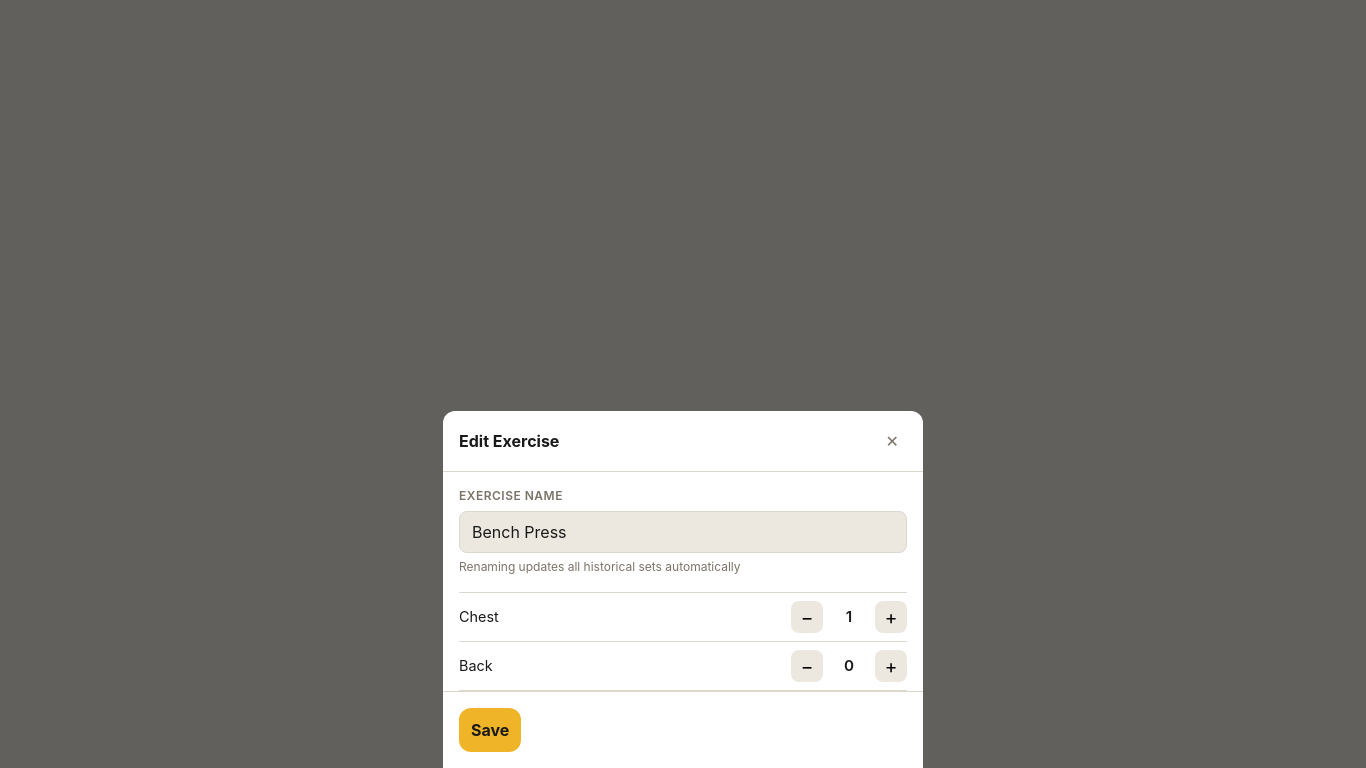
Test case: ExerciseEditSheet › decrements muscle value when − stepper is clicked
The width and height of the screenshot is (1366, 768).
Click the button "−" in the row of "Chest" at coordinates (807, 617), box [791,601,823,633]
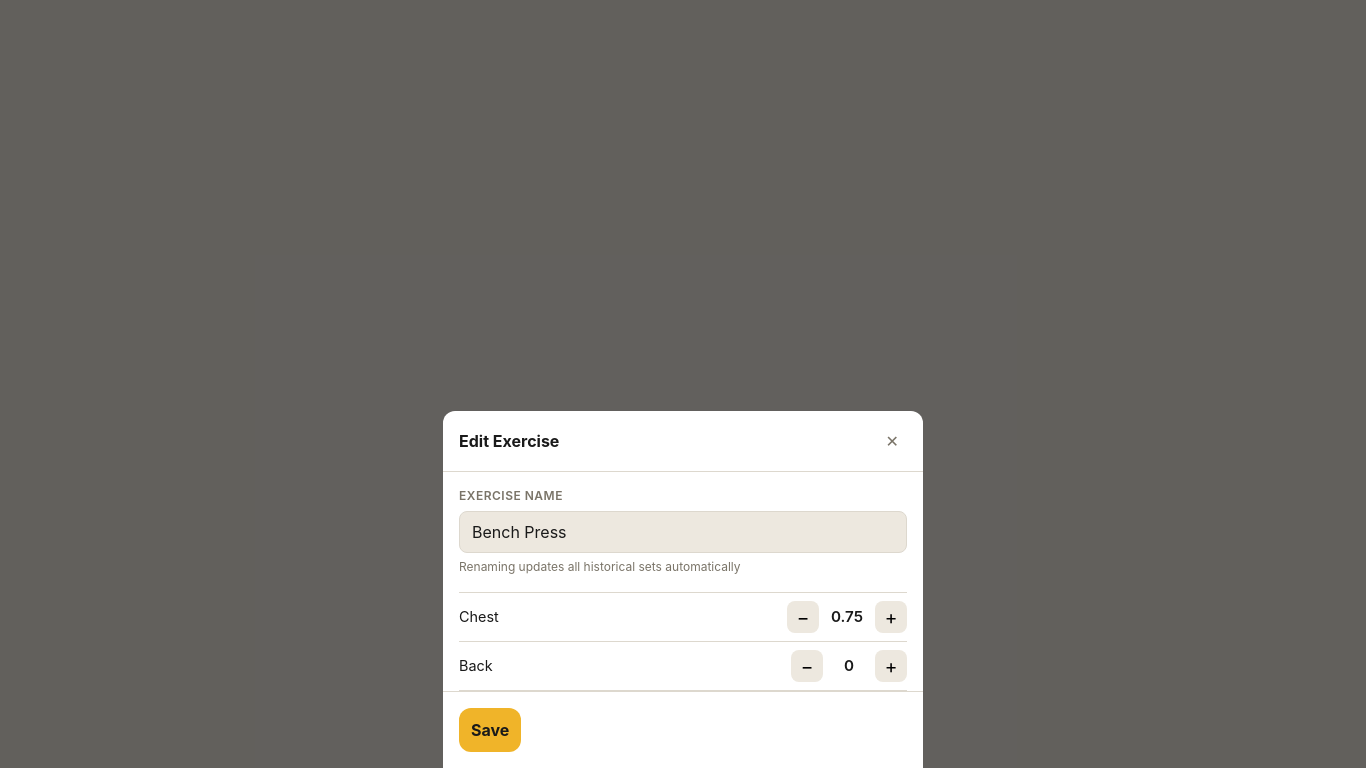
expect the text "0.75" is shown: met, box [831,606,863,628]
